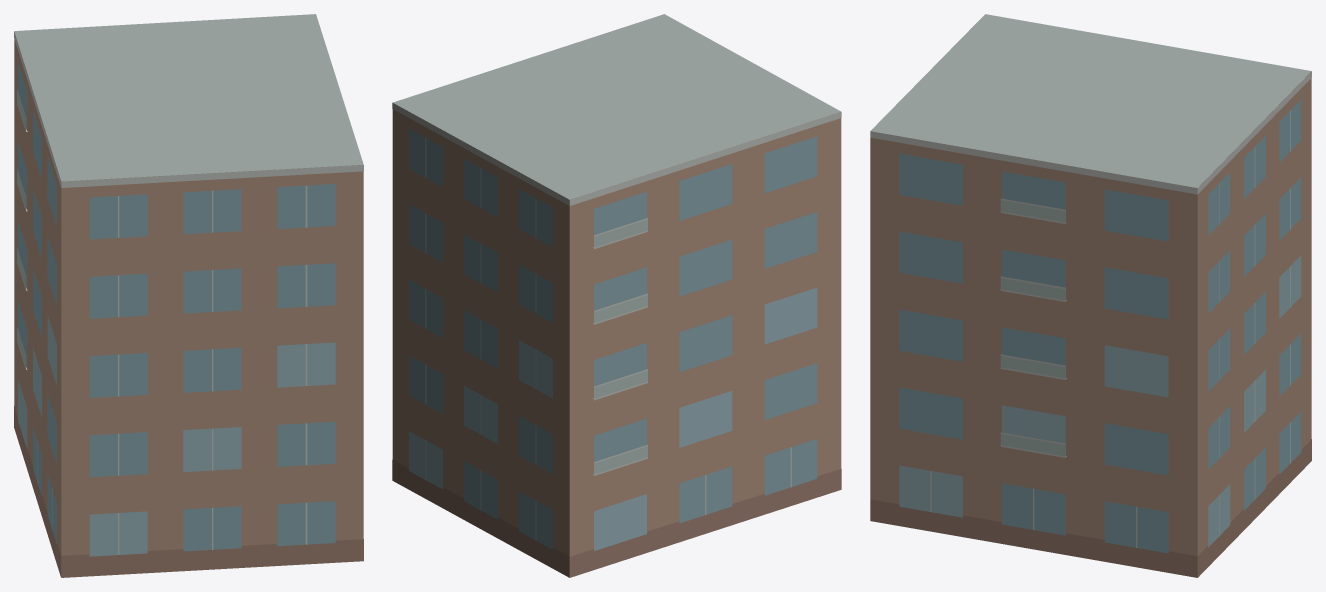
File: survey-upis-32491780.glb
The picture shows the model from 3 angles, left to right: view 1: azimuth 30°, elevation 25°; view 2: azimuth 150°, elevation 25°; view 3: azimuth 270°, elevation 25°; orthographic projection. The views are drawn at different scales.
Visible parts, largest first — view 1: survey-upis-32491780.tmp; view 2: survey-upis-32491780.tmp; view 3: survey-upis-32491780.tmp.
Part boxes in pixels (<box>): survey-upis-32491780.tmp: <box>14,14,363,577</box>; survey-upis-32491780.tmp: <box>392,14,841,577</box>; survey-upis-32491780.tmp: <box>870,14,1311,577</box>.
Size of the model in its own units: 14.09 by 14.7 by 15.1.
